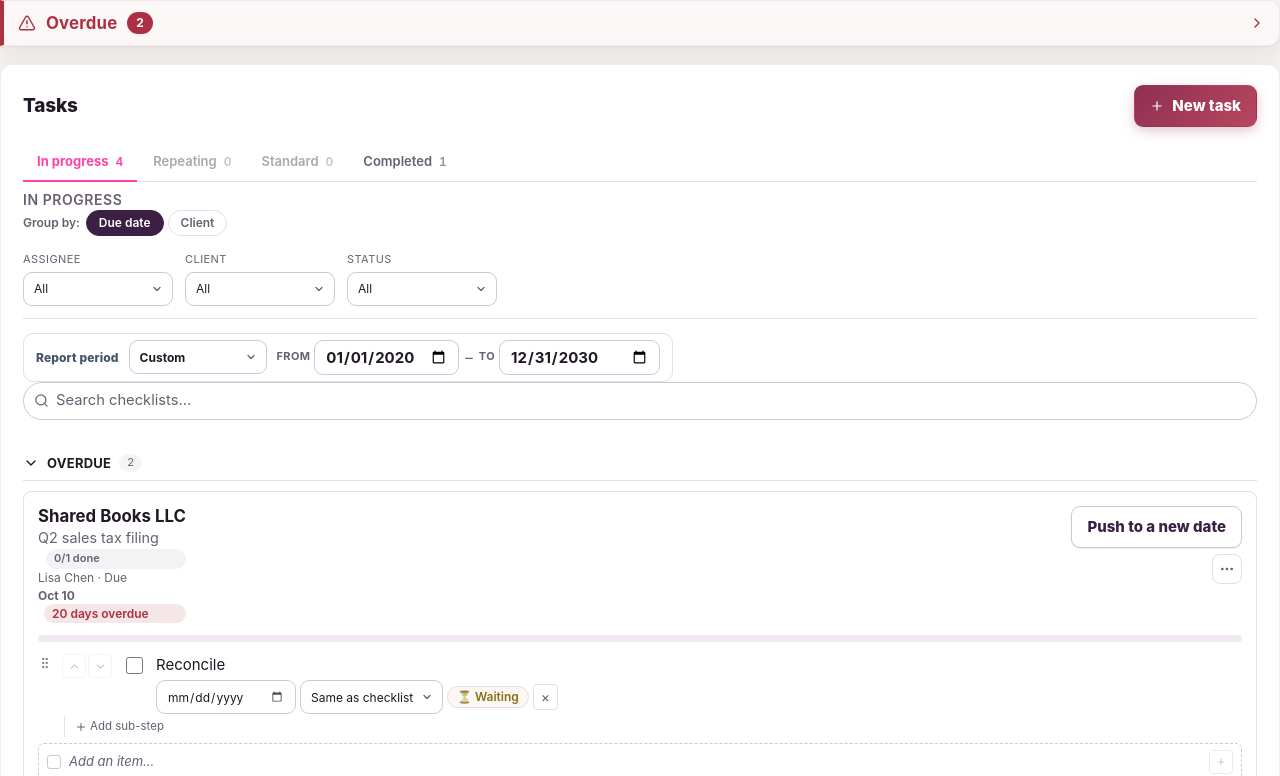
the pinned overdue panel › starts as a collapsed bar: count visible, rows hidden until the bar is clicked
This screenshot has width=1280, height=776.
Check: the element "Overdue 2" is shown, box x1=0 y1=0 x2=1279 y2=46
Check: the 1st text "2" is shown, box x1=127 y1=12 x2=153 y2=34
Click the button with class "overdue-pin-heading".
click(82, 23)  # box x1=18 y1=11 x2=1265 y2=35
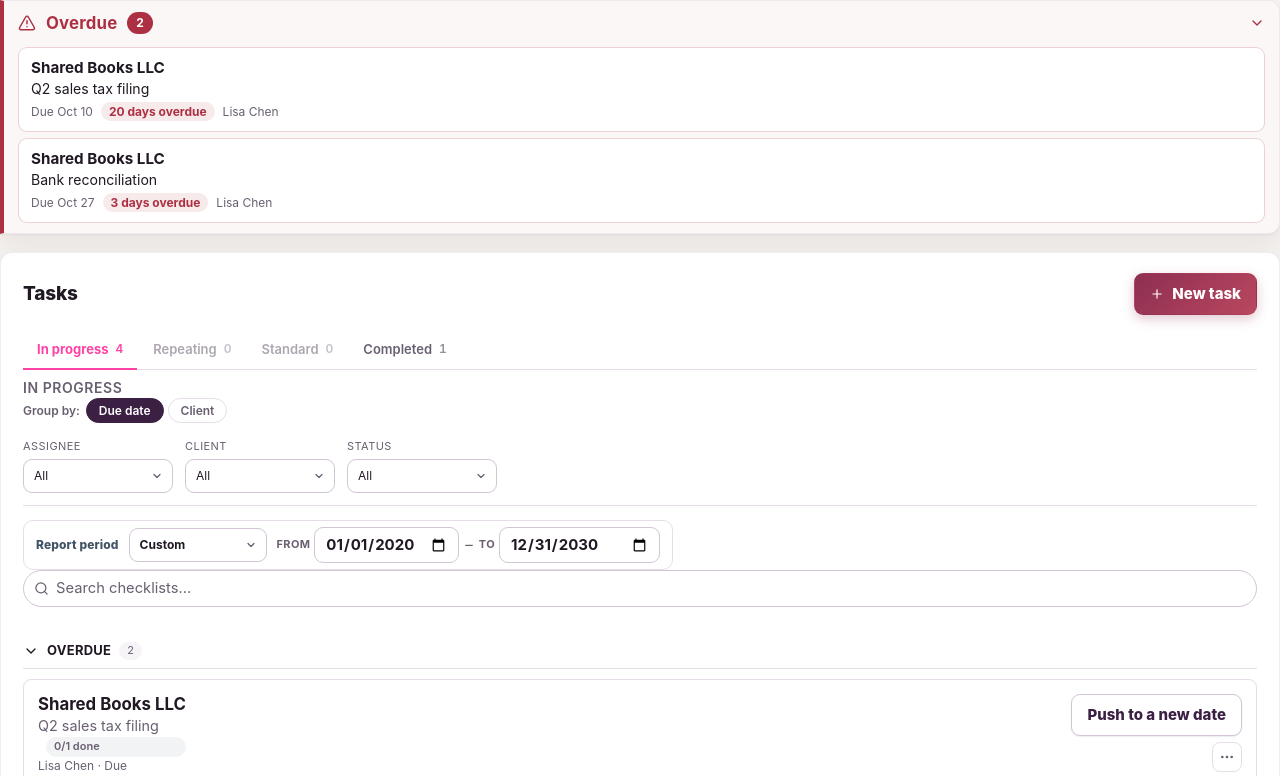
Check: the number of elements with class "overdue-pin-title" is 2, box x1=31 y1=80 x2=149 y2=97; x1=31 y1=171 x2=157 y2=188
Click the button with class "overdue-pin-heading".
click(82, 23)  # box x1=18 y1=11 x2=1265 y2=35
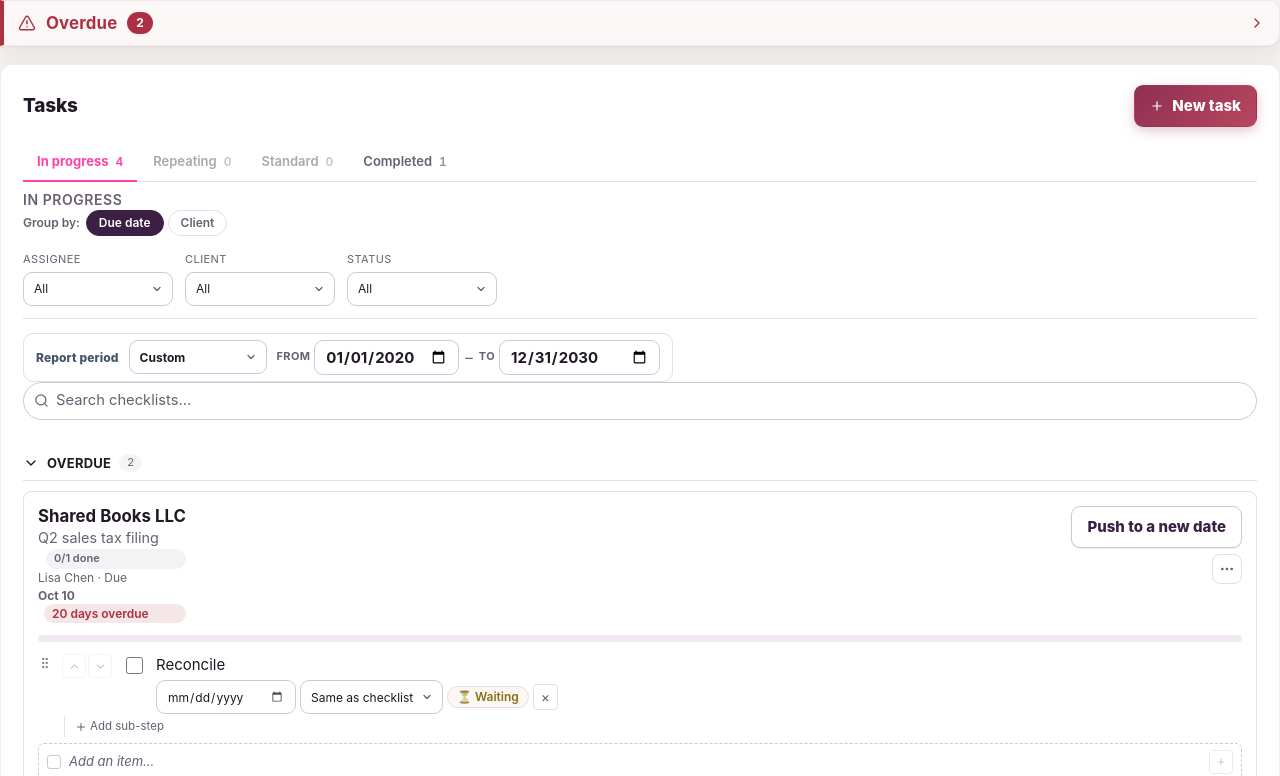
Check: no elements with class "overdue-pin-title" are shown
